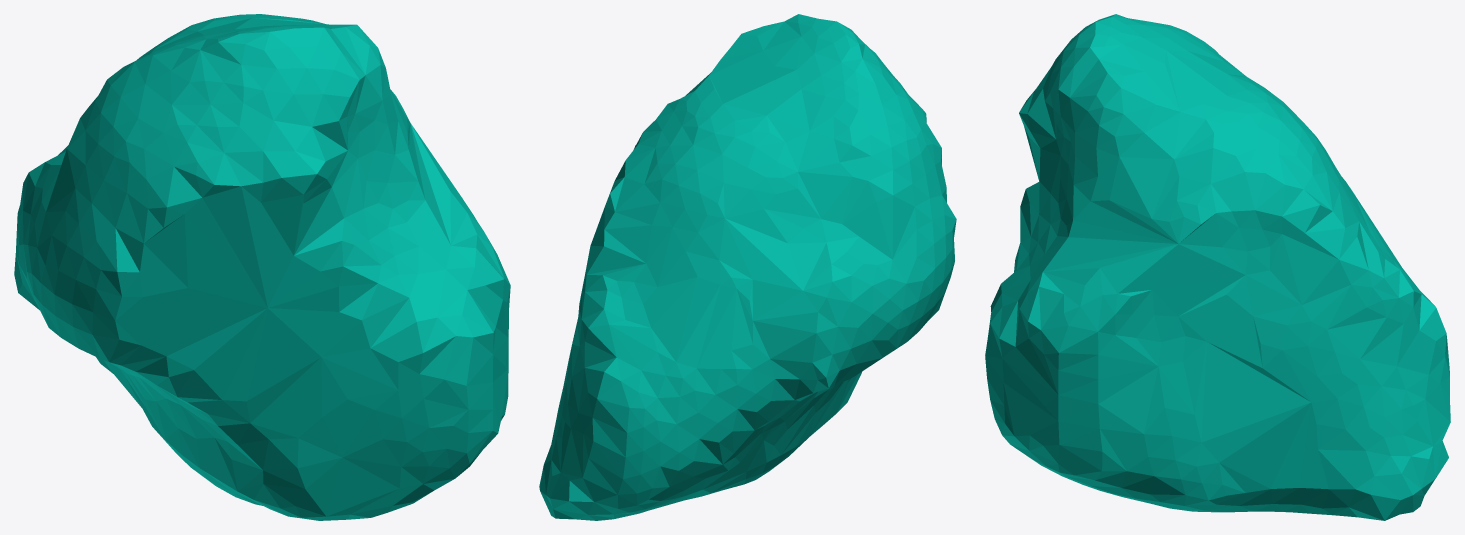
The model's file is Model_180_RH__Posterior_cortical_amygdaloid_nucleus_(PCo).obj.
The picture shows the model from 3 angles, left to right: view 1: azimuth 30°, elevation 25°; view 2: azimuth 150°, elevation 25°; view 3: azimuth 270°, elevation 25°; orthographic projection. The views are drawn at different scales.
Bounding box in the file's own units: 1.31 × 1.68 × 1.62.
